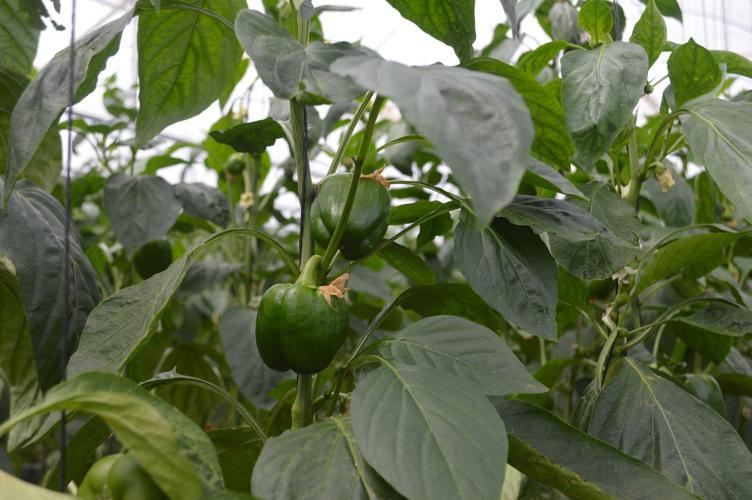BellPepper: (257, 283, 348, 376), (310, 175, 390, 257)
